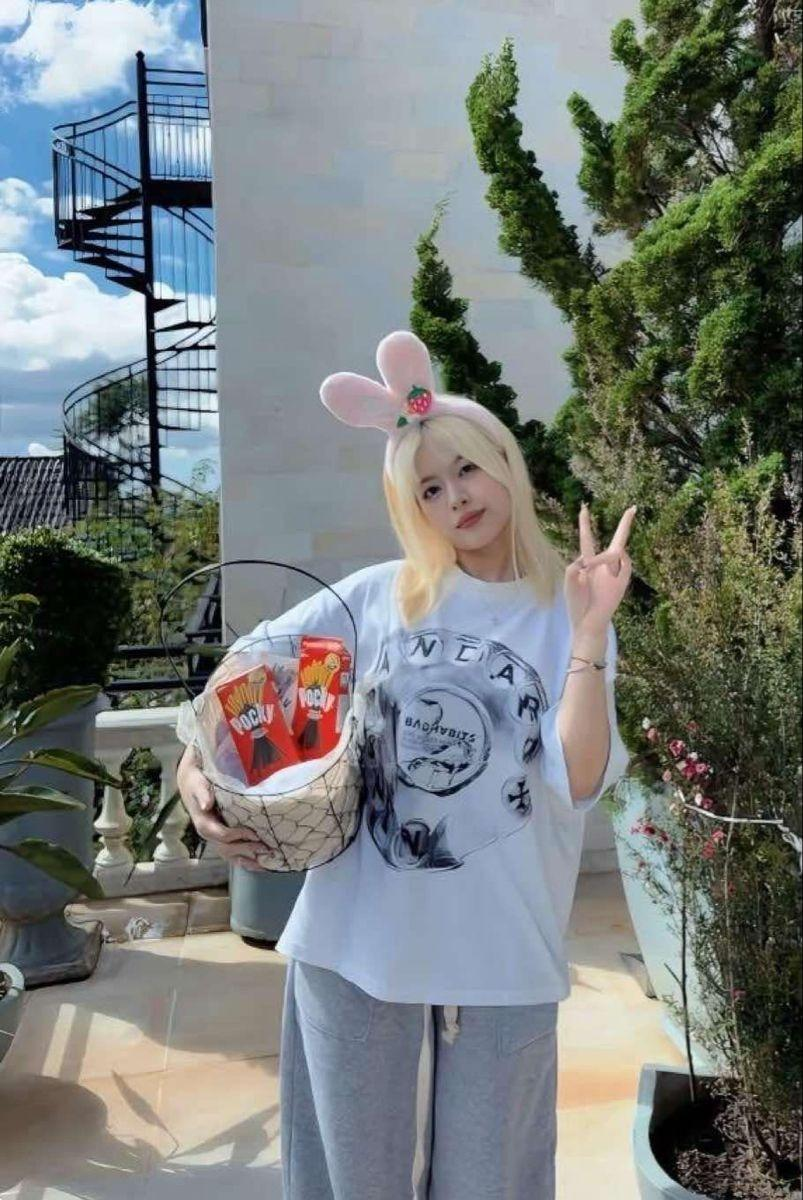non-dog: (173, 326, 641, 1199)
